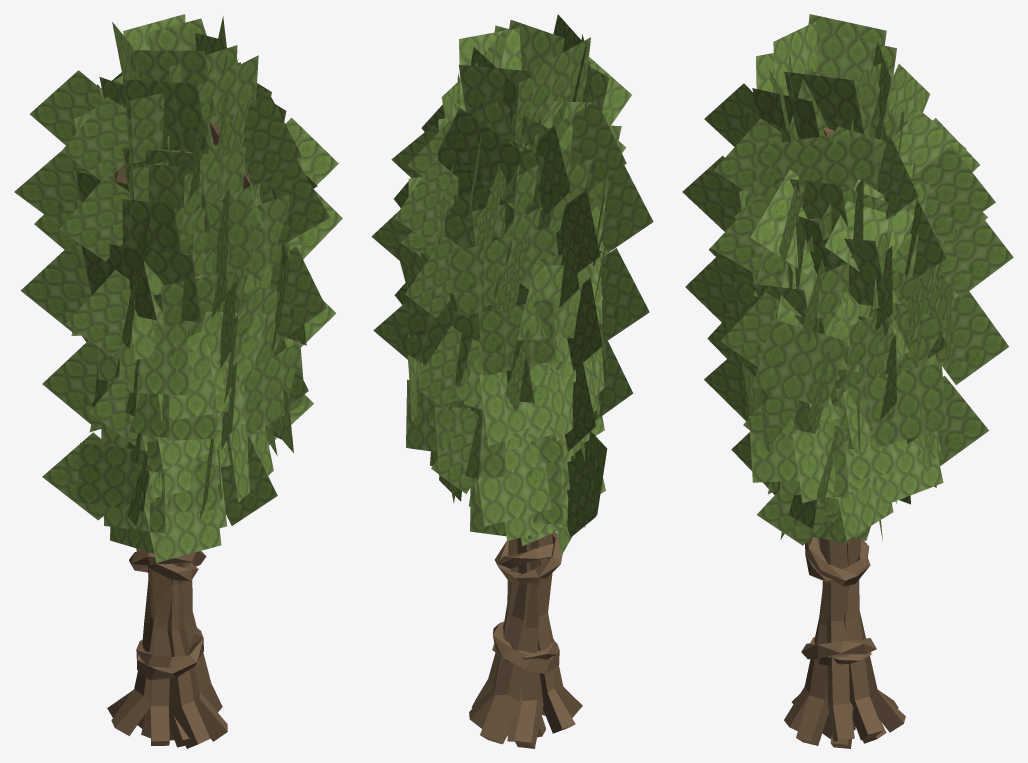
Rendered from vihta.fbx.
3 views of the same model, side by side, from view 1: azimuth 30°, elevation 25°; view 2: azimuth 150°, elevation 25°; view 3: azimuth 270°, elevation 25° (orthographic). The views are drawn at different scales.
Visible parts, largest first — view 1: Cube; view 2: Cube; view 3: Cube.
Part boxes in pixels (<box>): Cube: <box>14,14,342,748</box>; Cube: <box>371,14,653,748</box>; Cube: <box>682,14,1013,748</box>.
Size of the model in its own units: 133 by 329 by 142.
